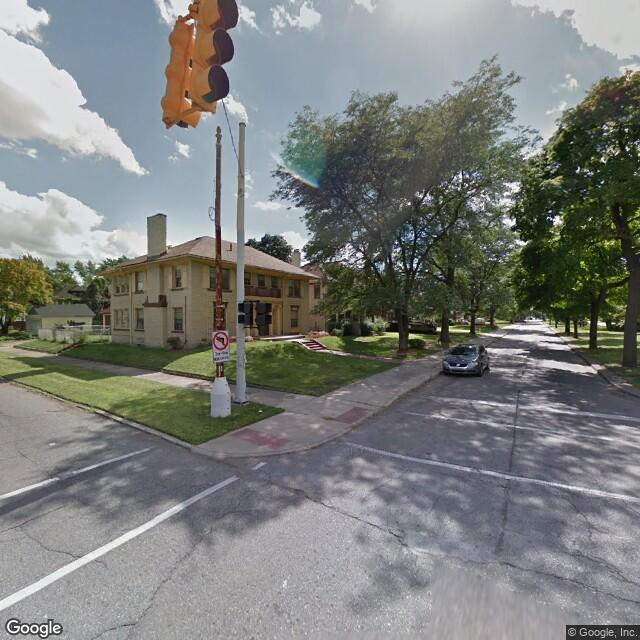litter: (257, 408, 265, 413)
